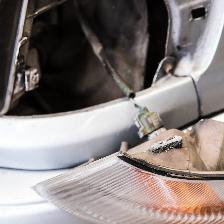head_lamp: (23, 6, 211, 205)
